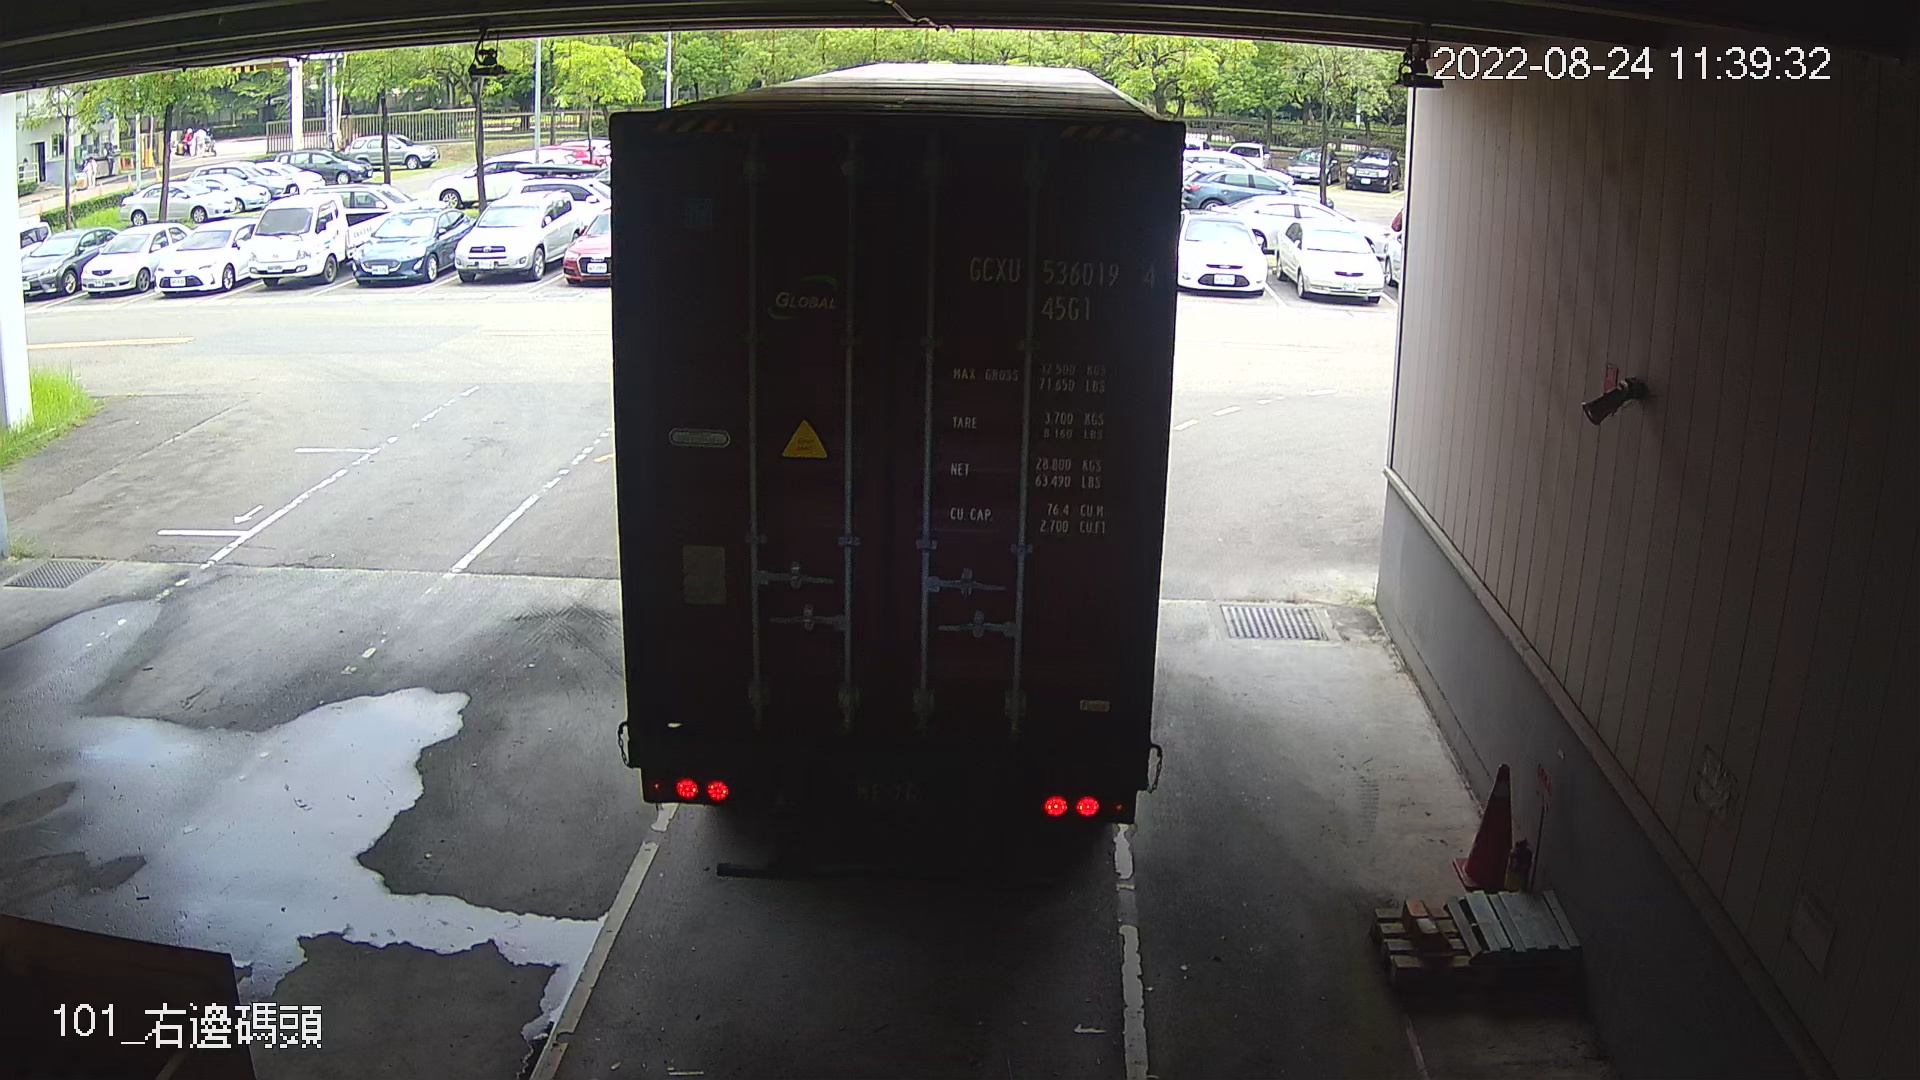container: (956, 237, 1167, 336)
